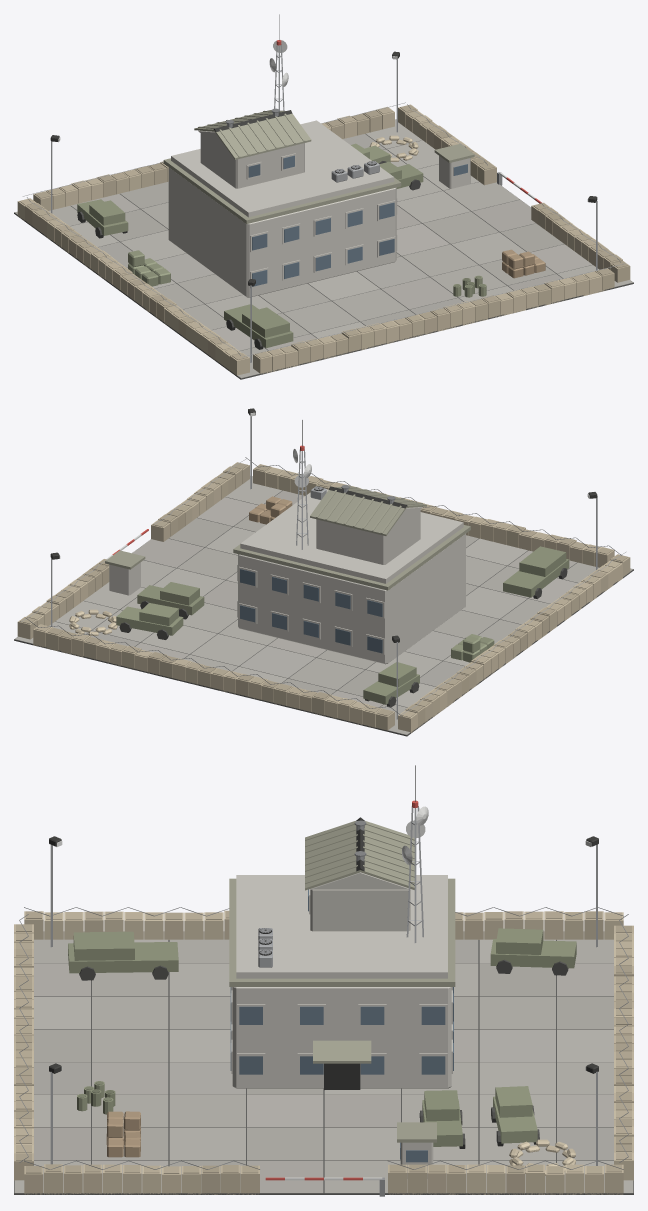
3 views of the same model, one above another, from view 1: azimuth 30°, elevation 25°; view 2: azimuth 150°, elevation 25°; view 3: azimuth 270°, elevation 25° (orthographic). The views are drawn at different scales.
Parts seen in each view (by area): view 1: hull; view 2: hull; view 3: hull.
Boxes of the visible parts, x1=… form: hull: x1=14, y1=14, x2=633, y2=379; hull: x1=14, y1=408, x2=633, y2=736; hull: x1=14, y1=765, x2=633, y2=1196.
Bounding box in the file's own units: 34.2 × 17.6 × 34.
